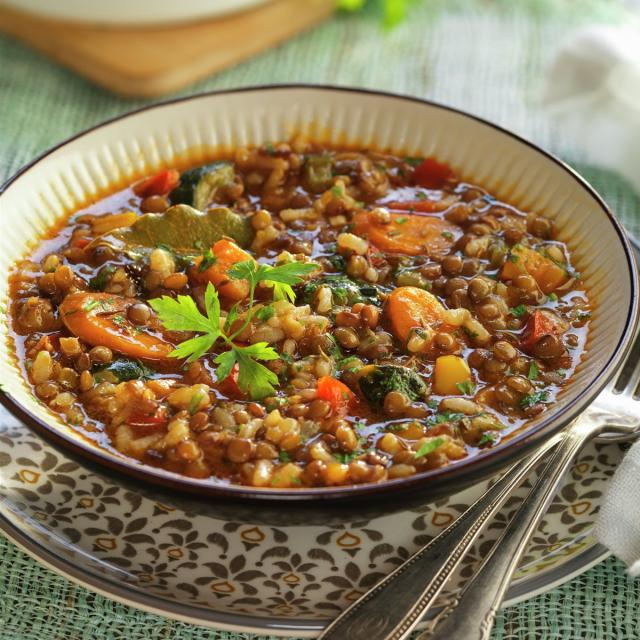lentejas: (18, 143, 599, 504)
